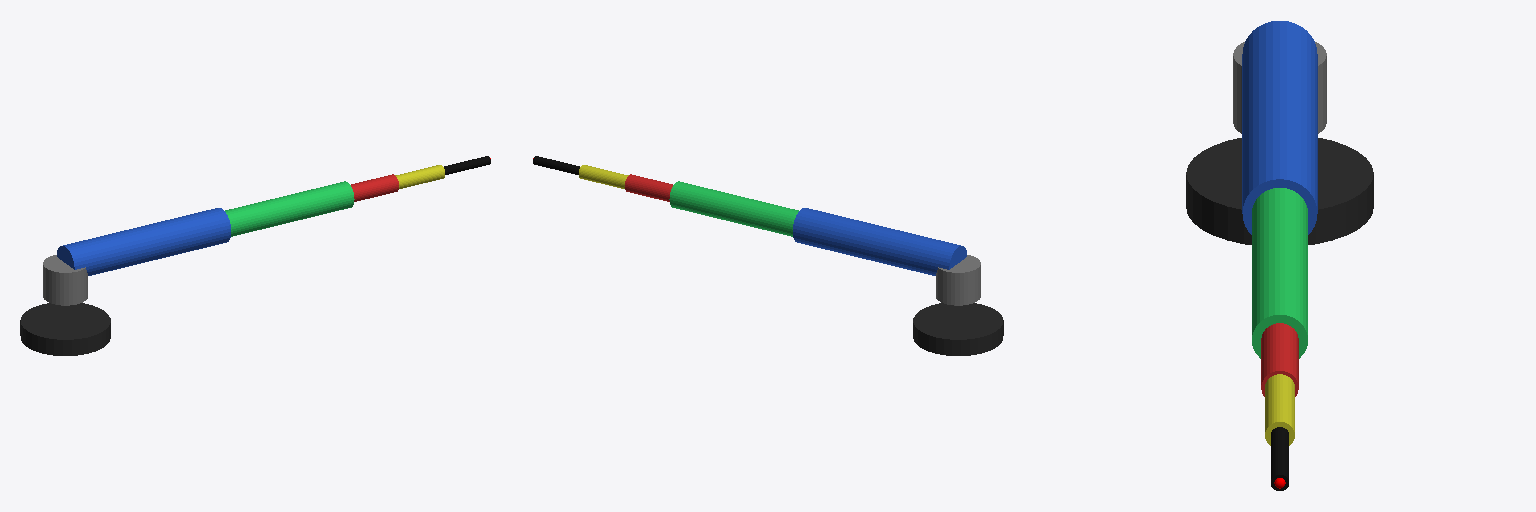
robot.urdf — koch_v11_writing_arm:
<?xml version="1.0"?>
<robot name="koch_v11_writing_arm">

  <!-- Base Link -->
  <link name="base_link">
    <visual>
      <geometry>
        <cylinder radius="0.05" length="0.02"/>
      </geometry>
      <material name="black">
        <color rgba="0.2 0.2 0.2 1"/>
      </material>
    </visual>
    <collision>
      <geometry>
        <cylinder radius="0.05" length="0.02"/>
      </geometry>
    </collision>
    <inertial>
      <mass value="0.5"/>
      <inertia ixx="0.001" ixy="0.0" ixz="0.0" iyy="0.001" iyz="0.0" izz="0.001"/>
    </inertial>
  </link>

  <!-- Joint 1: Shoulder Pan (Base Rotation) - XL430 -->
  <joint name="joint_1" type="revolute">
    <parent link="base_link"/>
    <child link="link_1"/>
    <origin xyz="0 0 0.04" rpy="0 0 0"/>
    <axis xyz="0 0 1"/>
    <limit lower="-3.14159" upper="3.14159" effort="3.0" velocity="3.0"/>
  </joint>

  <link name="link_1">
    <visual>
      <origin xyz="0 0 0.02" rpy="0 0 0"/>
      <geometry>
        <cylinder radius="0.025" length="0.04"/>
      </geometry>
      <material name="grey">
        <color rgba="0.5 0.5 0.5 1"/>
      </material>
    </visual>
    <collision>
      <origin xyz="0 0 0.02" rpy="0 0 0"/>
      <geometry>
        <cylinder radius="0.025" length="0.04"/>
      </geometry>
    </collision>
    <inertial>
      <mass value="0.2"/>
      <inertia ixx="0.0001" ixy="0.0" ixz="0.0" iyy="0.0001" iyz="0.0" izz="0.0001"/>
    </inertial>
  </link>

  <!-- Joint 2: Shoulder Lift - XL430 -->
  <joint name="joint_2" type="revolute">
    <parent link="link_1"/>
    <child link="link_2"/>
    <origin xyz="0 0 0.04" rpy="0 0 0"/>
    <axis xyz="0 1 0"/>
    <limit lower="-2.0" upper="2.0" effort="3.0" velocity="3.0"/>
  </joint>

  <link name="link_2">
    <visual>
      <origin xyz="0.10 0 0" rpy="0 1.5708 0"/>
      <geometry>
        <cylinder radius="0.02" length="0.20"/>
      </geometry>
      <material name="blue">
        <color rgba="0.2 0.4 0.8 1"/>
      </material>
    </visual>
    <collision>
      <origin xyz="0.10 0 0" rpy="0 1.5708 0"/>
      <geometry>
        <cylinder radius="0.02" length="0.20"/>
      </geometry>
    </collision>
    <inertial>
      <origin xyz="0.10 0 0"/>
      <mass value="0.3"/>
      <inertia ixx="0.001" ixy="0.0" ixz="0.0" iyy="0.001" iyz="0.0" izz="0.0001"/>
    </inertial>
  </link>

  <!-- Joint 3: Elbow Flex - XL330 -->
  <joint name="joint_3" type="revolute">
    <parent link="link_2"/>
    <child link="link_3"/>
    <origin xyz="0.20 0 0" rpy="0 0 0"/>
    <axis xyz="0 1 0"/>
    <limit lower="-2.5" upper="2.5" effort="2.0" velocity="3.0"/>
  </joint>

  <link name="link_3">
    <visual>
      <origin xyz="0.08 0 0" rpy="0 1.5708 0"/>
      <geometry>
        <cylinder radius="0.015" length="0.16"/>
      </geometry>
      <material name="green">
        <color rgba="0.2 0.8 0.4 1"/>
      </material>
    </visual>
    <collision>
      <origin xyz="0.08 0 0" rpy="0 1.5708 0"/>
      <geometry>
        <cylinder radius="0.015" length="0.16"/>
      </geometry>
    </collision>
    <inertial>
      <origin xyz="0.08 0 0"/>
      <mass value="0.2"/>
      <inertia ixx="0.0005" ixy="0.0" ixz="0.0" iyy="0.0005" iyz="0.0" izz="0.0001"/>
    </inertial>
  </link>

  <!-- Joint 4: Wrist Flex - XL330 -->
  <joint name="joint_4" type="revolute">
    <parent link="link_3"/>
    <child link="link_4"/>
    <origin xyz="0.16 0 0" rpy="0 0 0"/>
    <axis xyz="0 1 0"/>
    <limit lower="-2.0" upper="2.0" effort="2.0" velocity="3.0"/>
  </joint>

  <link name="link_4">
    <visual>
      <origin xyz="0.03 0 0" rpy="0 1.5708 0"/>
      <geometry>
        <cylinder radius="0.01" length="0.06"/>
      </geometry>
      <material name="red">
        <color rgba="0.8 0.2 0.2 1"/>
      </material>
    </visual>
    <collision>
      <origin xyz="0.03 0 0" rpy="0 1.5708 0"/>
      <geometry>
        <cylinder radius="0.01" length="0.06"/>
      </geometry>
    </collision>
    <inertial>
      <origin xyz="0.03 0 0"/>
      <mass value="0.1"/>
      <inertia ixx="0.0001" ixy="0.0" ixz="0.0" iyy="0.0001" iyz="0.0" izz="0.00001"/>
    </inertial>
  </link>

  <!-- Joint 5: Wrist Roll - XL330 -->
  <joint name="joint_5" type="revolute">
    <parent link="link_4"/>
    <child link="link_5"/>
    <origin xyz="0.06 0 0" rpy="0 0 0"/>
    <axis xyz="1 0 0"/>
    <limit lower="-3.14159" upper="3.14159" effort="1.0" velocity="3.0"/>
  </joint>

  <link name="link_5">
    <visual>
      <origin xyz="0.03 0 0" rpy="0 1.5708 0"/>
      <geometry>
        <cylinder radius="0.008" length="0.06"/>
      </geometry>
      <material name="yellow">
        <color rgba="0.8 0.8 0.2 1"/>
      </material>
    </visual>
    <collision>
      <origin xyz="0.03 0 0" rpy="0 1.5708 0"/>
      <geometry>
        <cylinder radius="0.008" length="0.06"/>
      </geometry>
    </collision>
    <inertial>
      <origin xyz="0.03 0 0"/>
      <mass value="0.05"/>
      <inertia ixx="0.00005" ixy="0.0" ixz="0.0" iyy="0.00005" iyz="0.0" izz="0.00001"/>
    </inertial>
  </link>

  <!-- Joint 6: Pen Holder (Gripper) - XL330 -->
  <joint name="joint_6" type="revolute">
    <parent link="link_5"/>
    <child link="pen_link"/>
    <origin xyz="0.06 0 0" rpy="0 0 0"/>
    <axis xyz="0 1 0"/>
    <limit lower="-0.5" upper="0.5" effort="1.0" velocity="1.0"/>
  </joint>

  <link name="pen_link">
    <visual>
      <origin xyz="0.03 0 0" rpy="0 1.5708 0"/>
      <geometry>
        <cylinder radius="0.005" length="0.06"/>
      </geometry>
      <material name="pen_color">
        <color rgba="0.1 0.1 0.1 1"/>
      </material>
    </visual>
    <collision>
      <origin xyz="0.03 0 0" rpy="0 1.5708 0"/>
      <geometry>
        <cylinder radius="0.005" length="0.06"/>
      </geometry>
    </collision>
    <inertial>
      <origin xyz="0.03 0 0"/>
      <mass value="0.02"/>
      <inertia ixx="0.00001" ixy="0.0" ixz="0.0" iyy="0.00001" iyz="0.0" izz="0.000001"/>
    </inertial>
  </link>

  <!-- Pen Tip (for visualization and tracking) -->
  <joint name="pen_tip_joint" type="fixed">
    <parent link="pen_link"/>
    <child link="pen_tip"/>
    <origin xyz="0.06 0 0" rpy="0 0 0"/>
  </joint>

  <link name="pen_tip">
    <visual>
      <geometry>
        <sphere radius="0.003"/>
      </geometry>
      <material name="tip_color">
        <color rgba="1.0 0.0 0.0 1"/>
      </material>
    </visual>
  </link>

  <!-- ROS2 Control Integration - FOLLOWING WORKING 4-DOF PATTERN -->
  <ros2_control name="koch_v11_system" type="system">
    
    <!-- For simulation, use mock hardware -->
    <hardware>
      <plugin>mock_components/GenericSystem</plugin>
    </hardware>
    
    <!-- Joint 1: Shoulder Pan -->
    <joint name="joint_1">
      <command_interface name="position">
        <param name="min">-3.14159</param>
        <param name="max">3.14159</param>
      </command_interface>
      <state_interface name="position">
        <param name="initial_value">0.0</param>
      </state_interface>
      <state_interface name="velocity"/>
    </joint>
    
    <!-- Joint 2: Shoulder Lift -->
    <joint name="joint_2">
      <command_interface name="position">
        <param name="min">-2.0</param>
        <param name="max">2.0</param>
      </command_interface>
      <state_interface name="position">
        <param name="initial_value">0.0</param>
      </state_interface>
      <state_interface name="velocity"/>
    </joint>
    
    <!-- Joint 3: Elbow Flex -->
    <joint name="joint_3">
      <command_interface name="position">
        <param name="min">-2.5</param>
        <param name="max">2.5</param>
      </command_interface>
      <state_interface name="position">
        <param name="initial_value">-1.5</param>
      </state_interface>
      <state_interface name="velocity"/>
    </joint>
    
    <!-- Joint 4: Wrist Flex -->
    <joint name="joint_4">
      <command_interface name="position">
        <param name="min">-2.0</param>
        <param name="max">2.0</param>
      </command_interface>
      <state_interface name="position">
        <param name="initial_value">1.5</param>
      </state_interface>
      <state_interface name="velocity"/>
    </joint>
    
    <!-- Joint 5: Wrist Roll -->
    <joint name="joint_5">
      <command_interface name="position">
        <param name="min">-3.14159</param>
        <param name="max">3.14159</param>
      </command_interface>
      <state_interface name="position">
        <param name="initial_value">0.0</param>
      </state_interface>
      <state_interface name="velocity"/>
    </joint>
    
    <!-- Joint 6: Pen Holder -->
    <joint name="joint_6">
      <command_interface name="position">
        <param name="min">-0.5</param>
        <param name="max">0.5</param>
      </command_interface>
      <state_interface name="position">
        <param name="initial_value">0.0</param>
      </state_interface>
      <state_interface name="velocity"/>
    </joint>
    
  </ros2_control>

</robot>

--- What the picture shows (computed from the rendered views, not written in the file) ---
Views: 3 orthographic renders of the robot side by side, from view 1: azimuth 30°, elevation 25°; view 2: azimuth 150°, elevation 25°; view 3: azimuth 270°, elevation 25°.
Robot: koch_v11_writing_arm — 8 links, 7 joints (6 revolute, 1 fixed); root link base_link; default pose: all joints at 0.
Visible links, largest first — view 1: link_2, base_link, link_3, link_1, link_4, link_5; view 2: link_2, base_link, link_3, link_1, link_4, link_5; view 3: link_2, base_link, link_3, link_4, link_5, link_1, pen_link.
Link boxes in pixels (x1=…): link_2: x1=57, y1=208, x2=230, y2=275; base_link: x1=20, y1=303, x2=110, y2=355; link_3: x1=225, y1=181, x2=354, y2=236; link_1: x1=43, y1=255, x2=87, y2=305; link_4: x1=351, y1=174, x2=398, y2=201; link_5: x1=395, y1=165, x2=444, y2=188; link_2: x1=793, y1=208, x2=966, y2=275; base_link: x1=913, y1=303, x2=1003, y2=355; link_3: x1=669, y1=181, x2=798, y2=236; link_1: x1=936, y1=255, x2=980, y2=305; link_4: x1=625, y1=174, x2=672, y2=201; link_5: x1=579, y1=165, x2=628, y2=188; link_2: x1=1242, y1=21, x2=1317, y2=234; base_link: x1=1186, y1=138, x2=1373, y2=244; link_3: x1=1252, y1=188, x2=1307, y2=358; link_4: x1=1261, y1=323, x2=1298, y2=396; link_5: x1=1265, y1=374, x2=1294, y2=445; link_1: x1=1233, y1=42, x2=1326, y2=133; pen_link: x1=1271, y1=427, x2=1288, y2=490.
Size in the robot's own frame: 0.593 by 0.1 by 0.11 metres.
Geometry: primitives only (box / cylinder / sphere), no mesh files.
